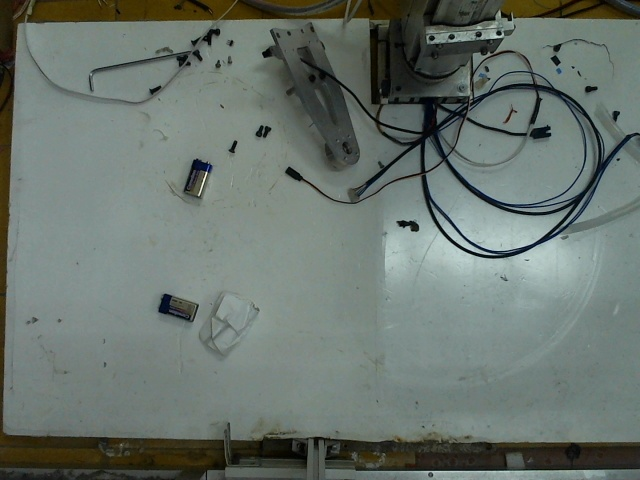battery: (154, 288, 200, 324), (180, 153, 214, 196)
